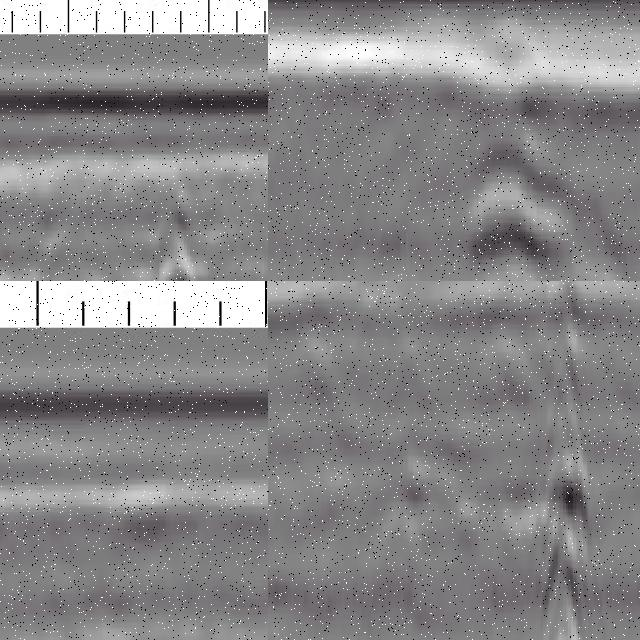crack: (540, 282, 592, 640), (147, 178, 199, 282)
loose: (465, 32, 629, 282)
